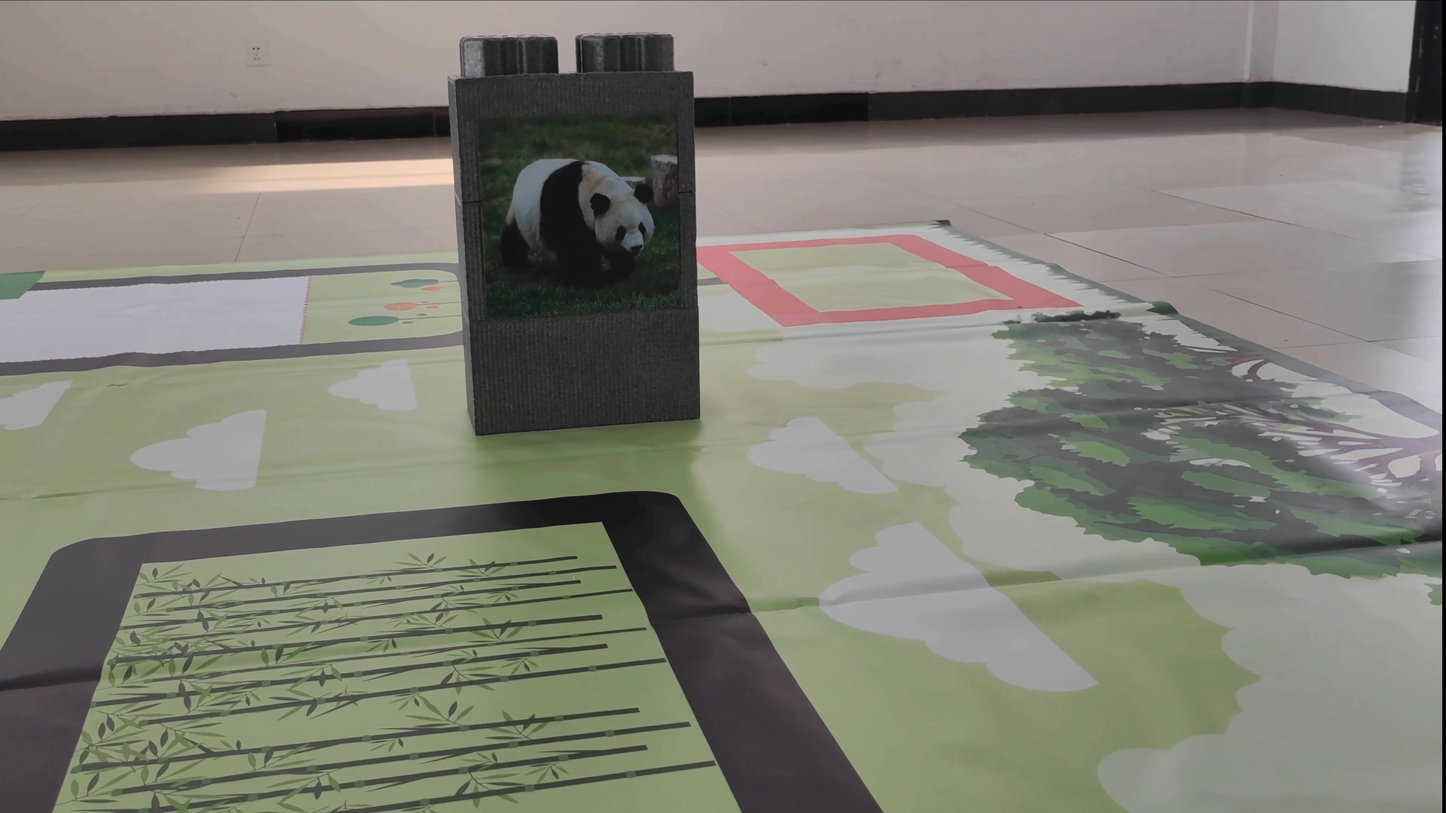panda: (488, 126, 671, 309)
